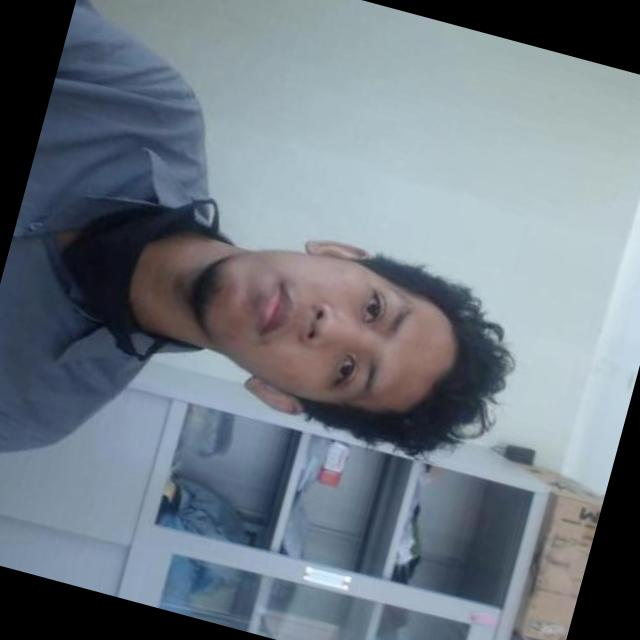bareface: (176, 218, 462, 438)
